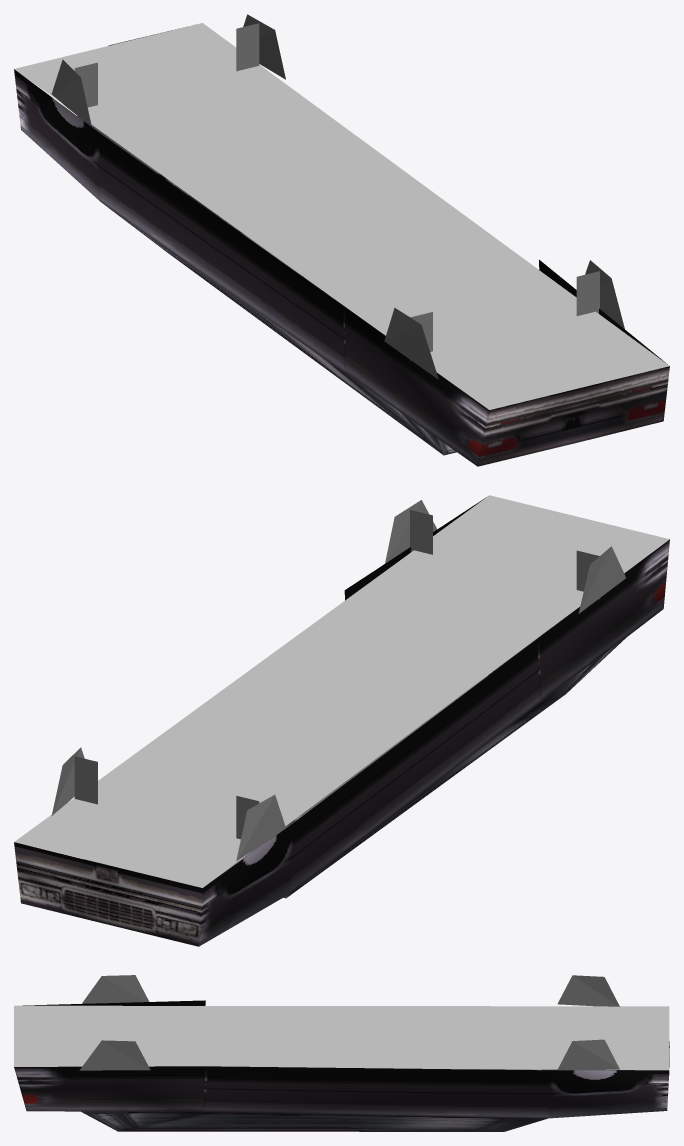
The model's file is RIO_model11_low.obj.
The picture shows the model from 3 angles, top to bottom: view 1: azimuth 30°, elevation 25°; view 2: azimuth 150°, elevation 25°; view 3: azimuth 270°, elevation 25°; orthographic projection. The views are drawn at different scales.
Visible parts, largest first — view 1: RIO_model11_low; view 2: RIO_model11_low; view 3: RIO_model11_low.
Boxes of the visible parts, x1,y1,x2,y2 form: RIO_model11_low: (14, 14, 669, 466); RIO_model11_low: (14, 495, 669, 946); RIO_model11_low: (14, 975, 669, 1131).
Size of the model in its own units: 288 by 210 by 1204.
